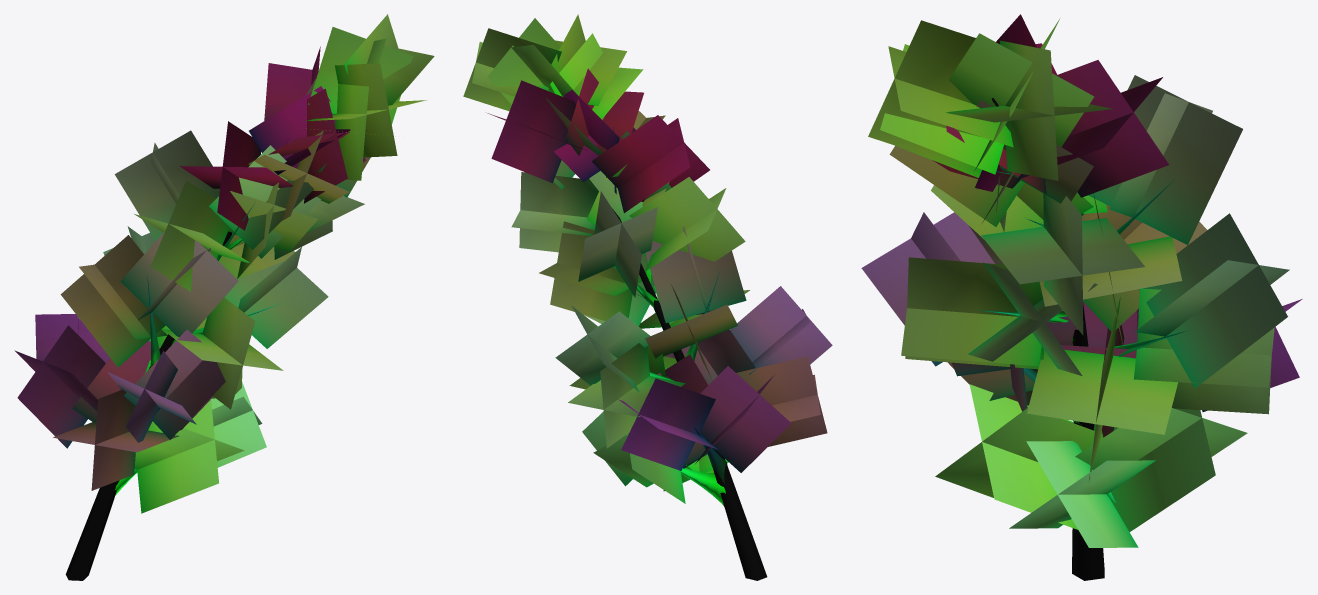
File: URP_P5_Tree_6_LOD_3.fbx
3 views of the same model, side by side, from view 1: azimuth 30°, elevation 25°; view 2: azimuth 150°, elevation 25°; view 3: azimuth 270°, elevation 25° (orthographic). The views are drawn at different scales.
Visible parts, largest first — view 1: Tree_6_LOD_3; view 2: Tree_6_LOD_3; view 3: Tree_6_LOD_3.
Boxes of the visible parts, x1,y1,x2,y2 form: Tree_6_LOD_3: [14, 14, 434, 580]; Tree_6_LOD_3: [463, 14, 832, 580]; Tree_6_LOD_3: [861, 14, 1302, 580].
Bounding box in the file's own units: 400 × 510 × 277.
